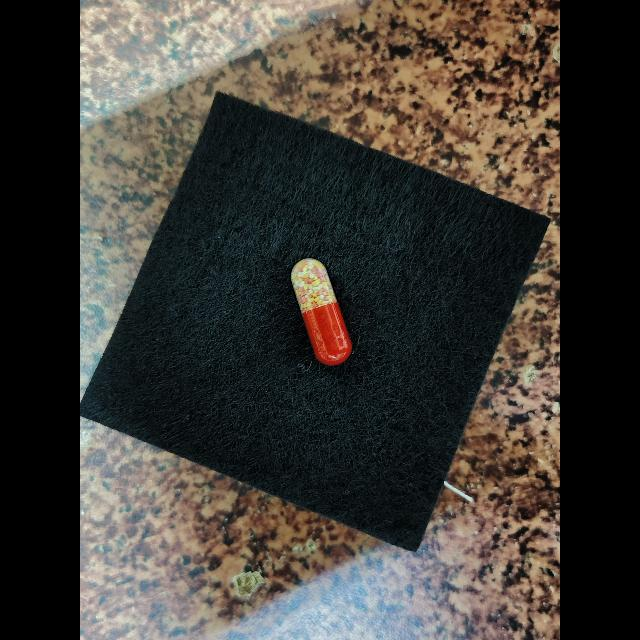Intact Capsule: (291, 258, 352, 365)
